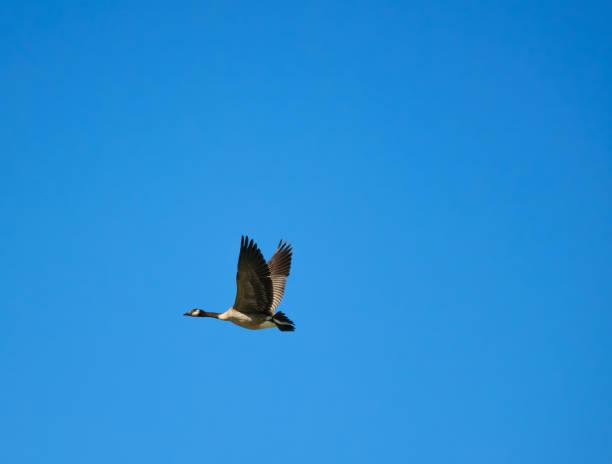Canadian-Goose: (181, 232, 302, 341)
